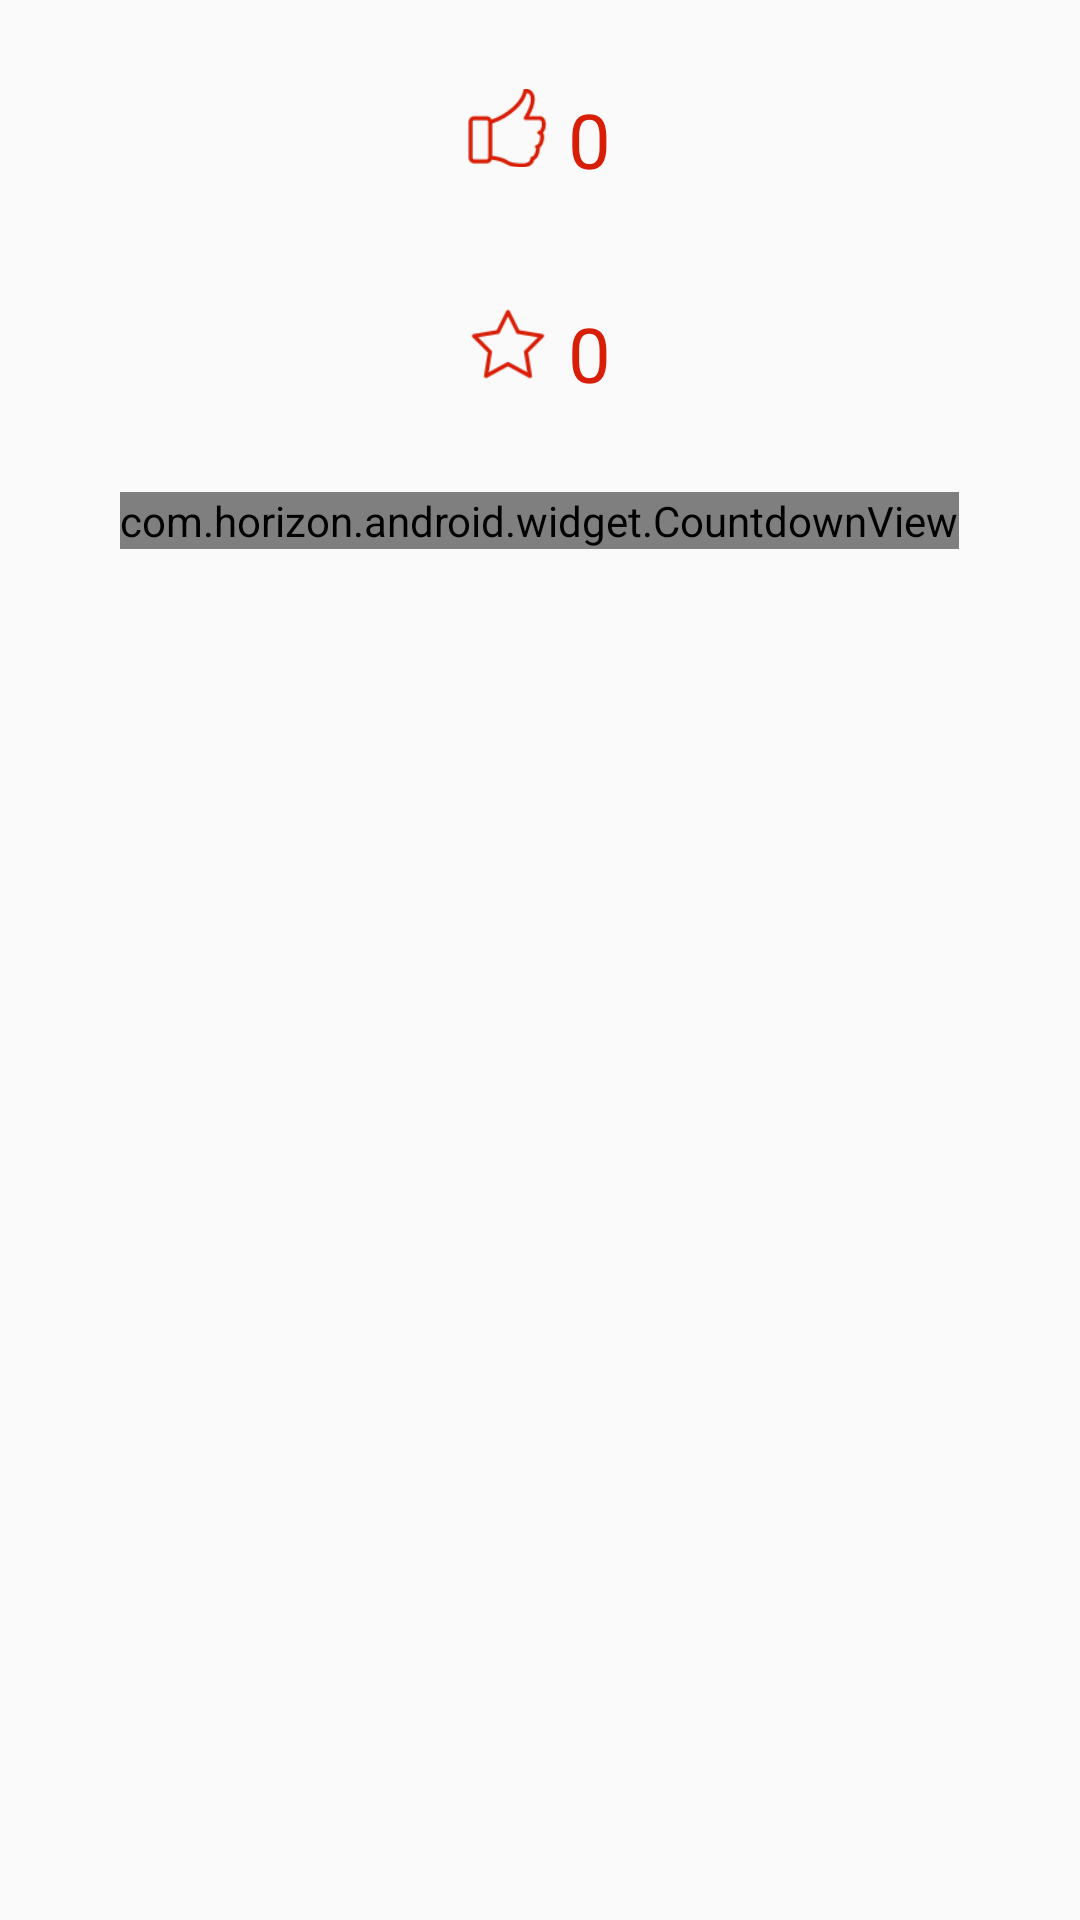

Named icons in this screenshot (1080px×1920px) and their centers, (x,y):
collection: (508,344)
like: (507,128)
